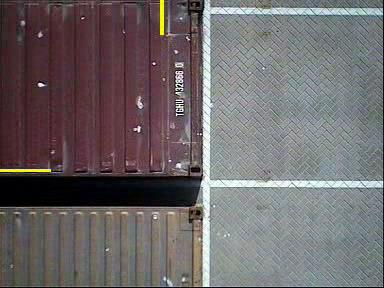groundmarker_2: (196, 166, 229, 223)
